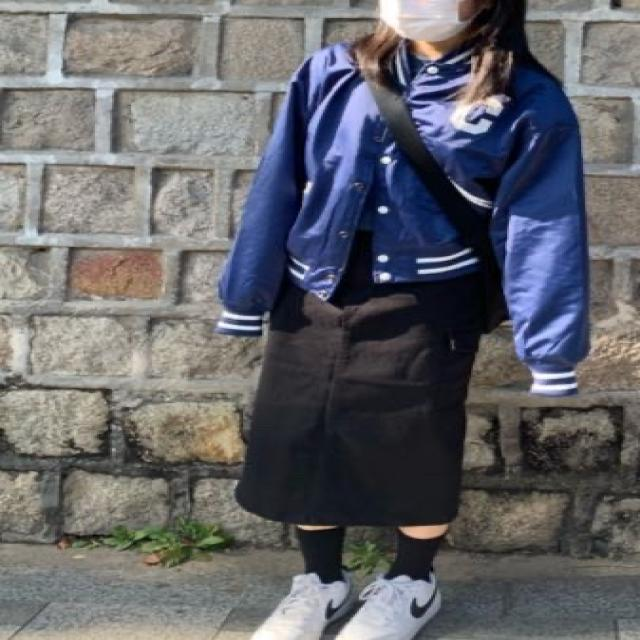jacket: (214, 31, 592, 397)
skirt: (237, 223, 490, 528)
